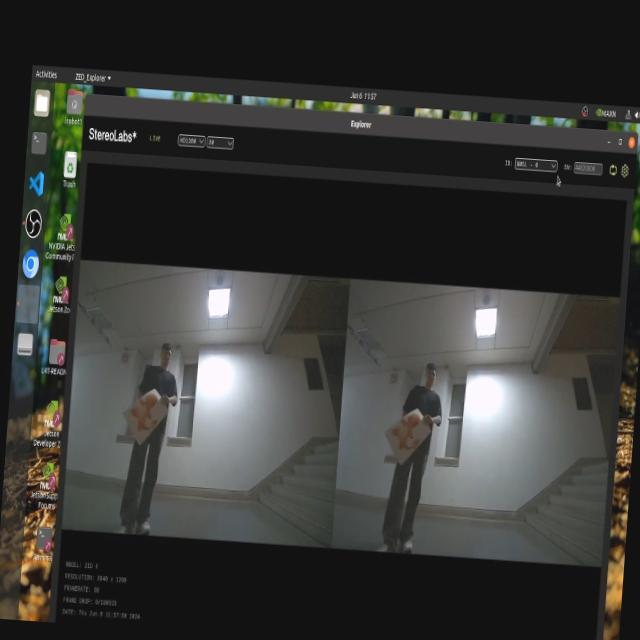red: (122, 388, 168, 434), (389, 400, 424, 452)
